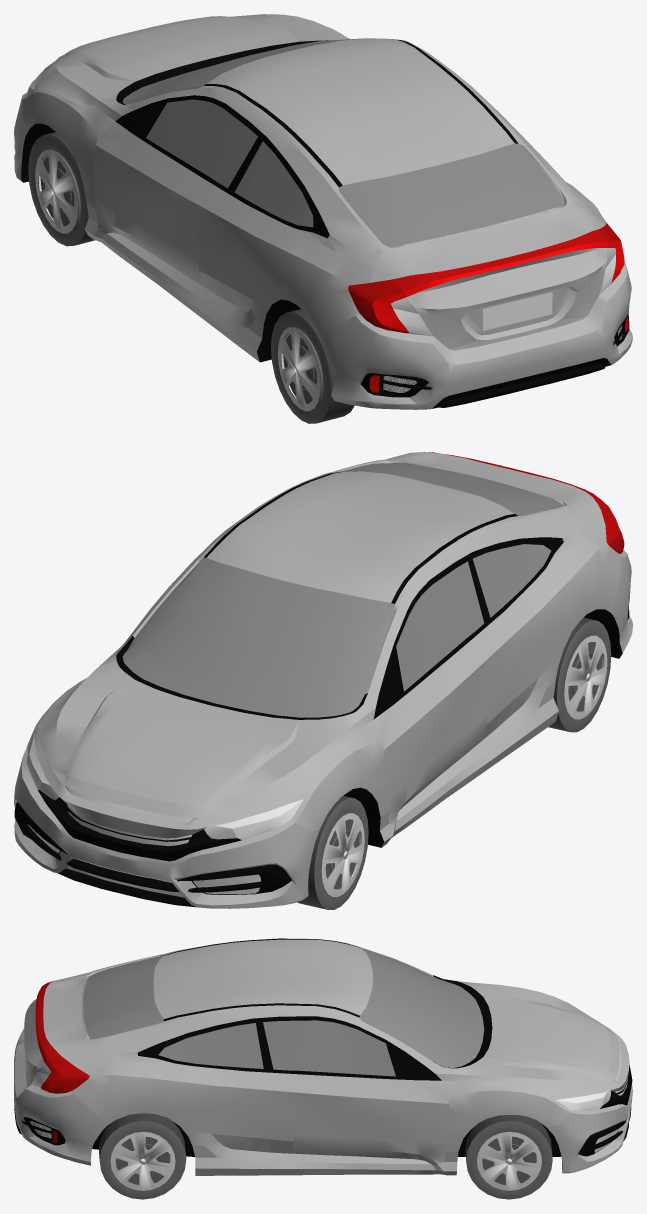
File: Can10.fbx
3 renders of one model, top to bottom at view 1: azimuth 30°, elevation 25°; view 2: azimuth 150°, elevation 25°; view 3: azimuth 270°, elevation 25°, orthographic. The views are drawn at different scales.
Visible parts, largest first — view 1: Body, Back, Front; view 2: Body, Front, Back; view 3: Body, Back, Front.
Part boxes in pixels (x1,y1,x2,y2): Body: [14, 14, 632, 409]; Back: [271, 309, 354, 423]; Front: [28, 132, 94, 246]; Body: [14, 452, 632, 908]; Front: [297, 795, 368, 909]; Back: [548, 617, 611, 732]; Body: [14, 938, 632, 1175]; Back: [99, 1113, 186, 1199]; Front: [465, 1115, 552, 1199].
Size of the model in its own units: 3.14 by 2.34 by 7.38.
